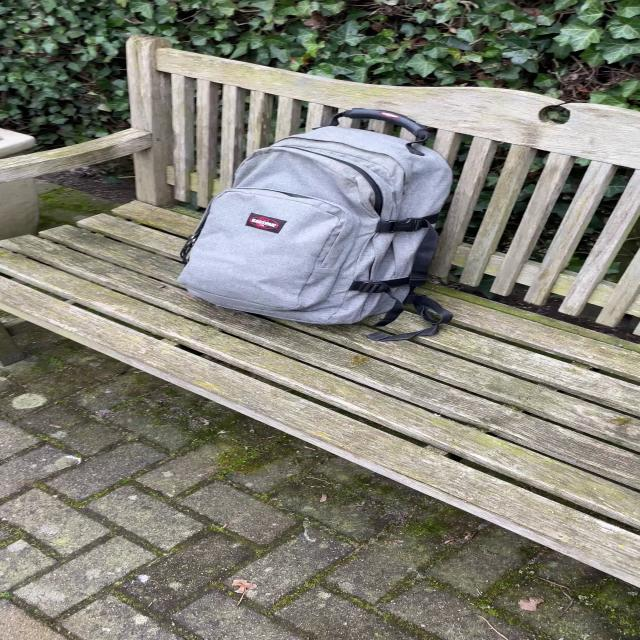backpack: (165, 106, 463, 330)
